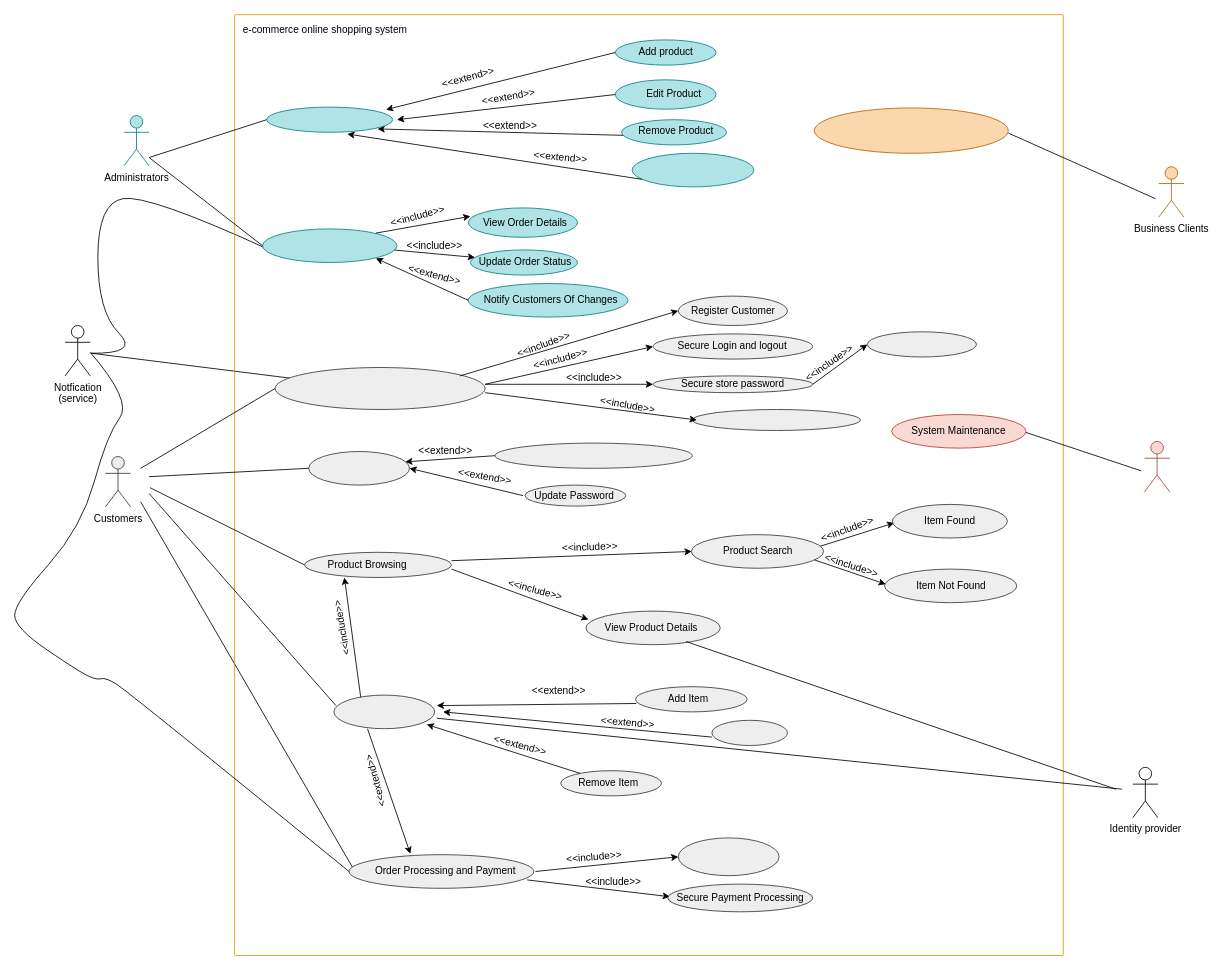
Image size: 1223x970. Some labels were removed from this diagram. Here are the shapes that lost their labels. From the top down, the centre of each, then its label:
At [329,119]: "Inventory Managment".
At [911,130]: "Requirment Gathering and Feedback".
At [692,169]: "Update Stock Avilability".
At [329,245]: "Order Managment".
At [921,344]: "Password reset".
At [379,388]: "customer registration and authentication".
At [776,419]: "Separate Admin Login Interface".
At [359,468]: "Profile Management".
At [593,455]: "Update and view Profile Information".
At [1157,466]: "Developers".
At [384,711]: "Shopping Cart".
At [749,732]: "Update Cart".
At [728,856]: "Payment Options".
